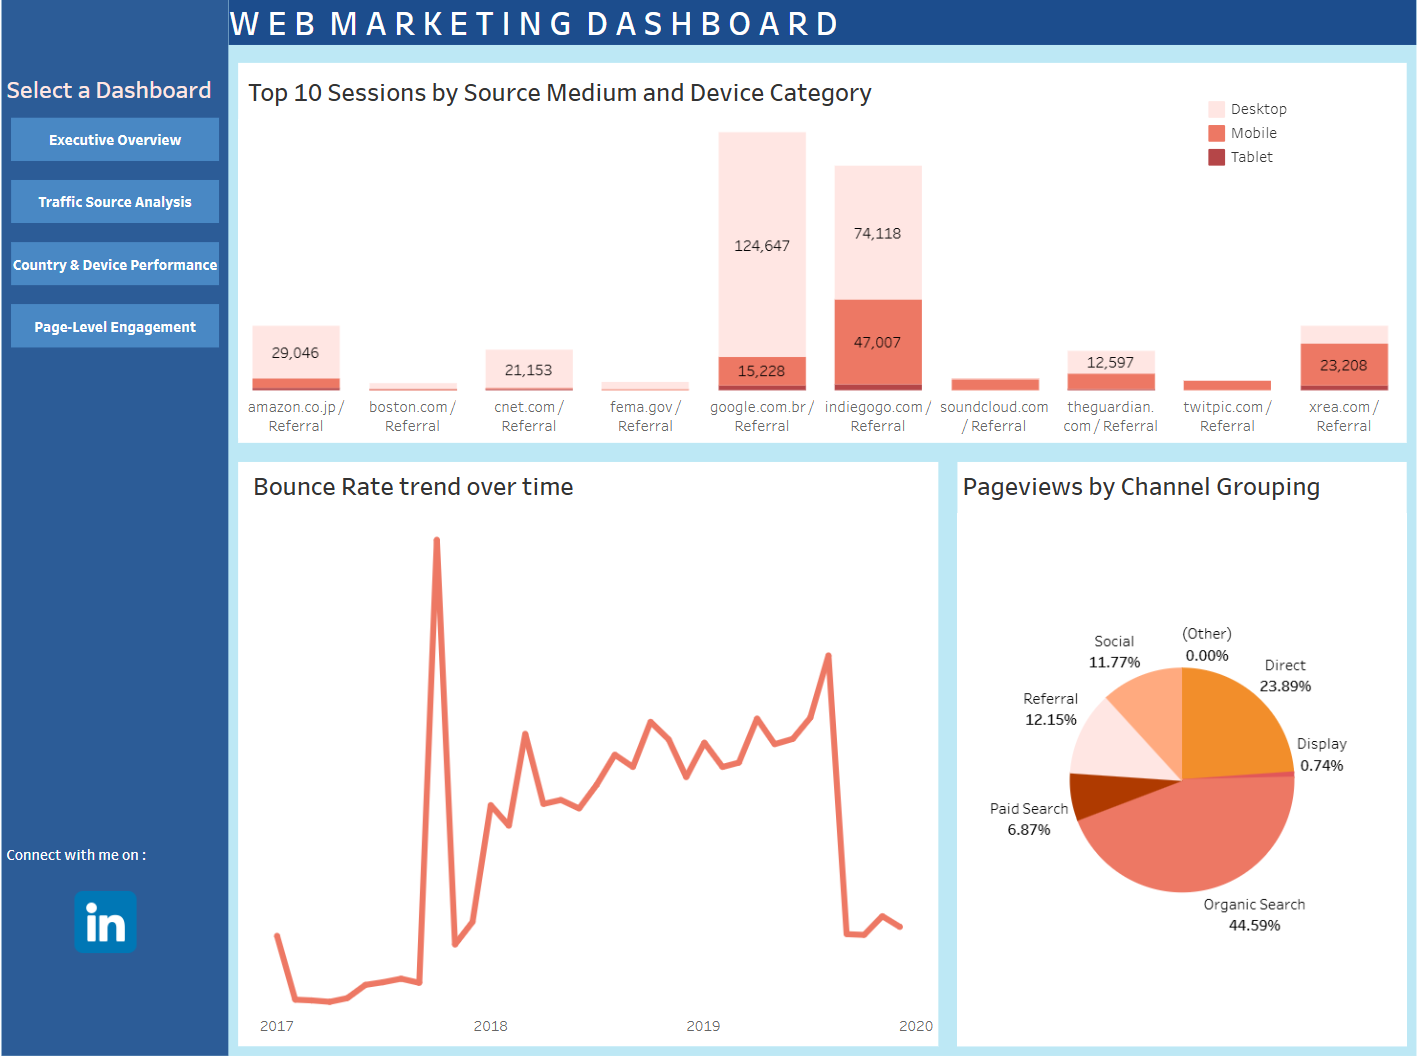

The dashboard page shown, as its layout file describes it:
{"tool":"tableau","page":{"name":"Traffic Source Analysis","canvas":[1200,900],"ordinal":3},"visuals":[{"type":"blank","box":[8,8,190,56]},{"type":"text","box":[198,8,994,45]},{"type":"worksheet","title":" Top 10 Sessions by Source Medium and Device Category","mark":"Bar","rows":["Sessions"],"cols":["Source Medium"],"box":[206,61,978,318]},{"type":"text","box":[8,64,190,72]},{"type":"legend","title":" Top 10 Sessions by Source Medium and Device Category","param":"[federated.0g6xm690gjbdcr16oj8ww0z68q8a].[none:Device Category:nk]","box":[1015,90,140,85]},{"type":"dashboard-object","box":[8,136,190,52]},{"type":"dashboard-object","box":[8,188,190,52]},{"type":"dashboard-object","box":[8,240,190,52]},{"type":"dashboard-object","box":[8,292,190,52]},{"type":"blank","box":[8,344,190,210]},{"type":"worksheet","title":"Pageviews by Channel Grouping","mark":"Pie","box":[800,387,392,505]},{"type":"worksheet","title":" Bounce Rate trend over time","mark":"Automatic","rows":["Bounces"],"cols":["Date"],"box":[206,395,586,489]},{"type":"text","box":[8,554,190,338]},{"type":"image","param":"Image/linkedin.png","box":[62,754,65,52]}]}

Visuals, with their boxes in screenshot pixels (x1, y1, x2, y2), scaled from the page's 1200x900 canvas onto the 1417x1059 screenshot:
blank: bbox=(9, 9, 234, 75)
text: bbox=(234, 9, 1408, 62)
" Top 10 Sessions by Source Medium and Device Category" worksheet (Bar marks): bbox=(243, 72, 1398, 446)
text: bbox=(9, 75, 234, 160)
" Top 10 Sessions by Source Medium and Device Category" legend: bbox=(1199, 106, 1364, 206)
dashboard-object: bbox=(9, 160, 234, 221)
dashboard-object: bbox=(9, 221, 234, 282)
dashboard-object: bbox=(9, 282, 234, 344)
dashboard-object: bbox=(9, 344, 234, 405)
blank: bbox=(9, 405, 234, 652)
"Pageviews by Channel Grouping" worksheet (Pie marks): bbox=(945, 455, 1408, 1050)
" Bounce Rate trend over time" worksheet: bbox=(243, 465, 935, 1040)
text: bbox=(9, 652, 234, 1050)
image: bbox=(73, 887, 150, 948)
